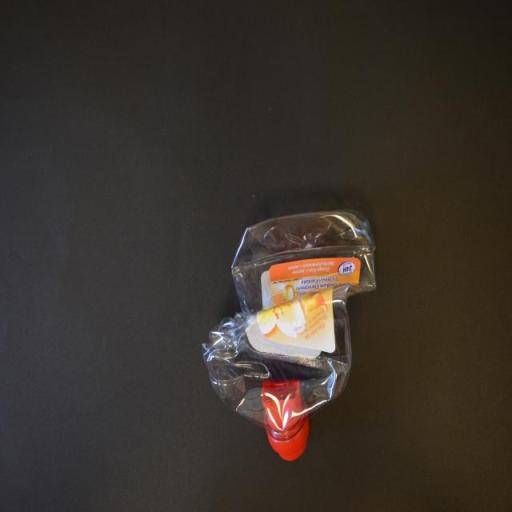plastic: (202, 206, 377, 464)
